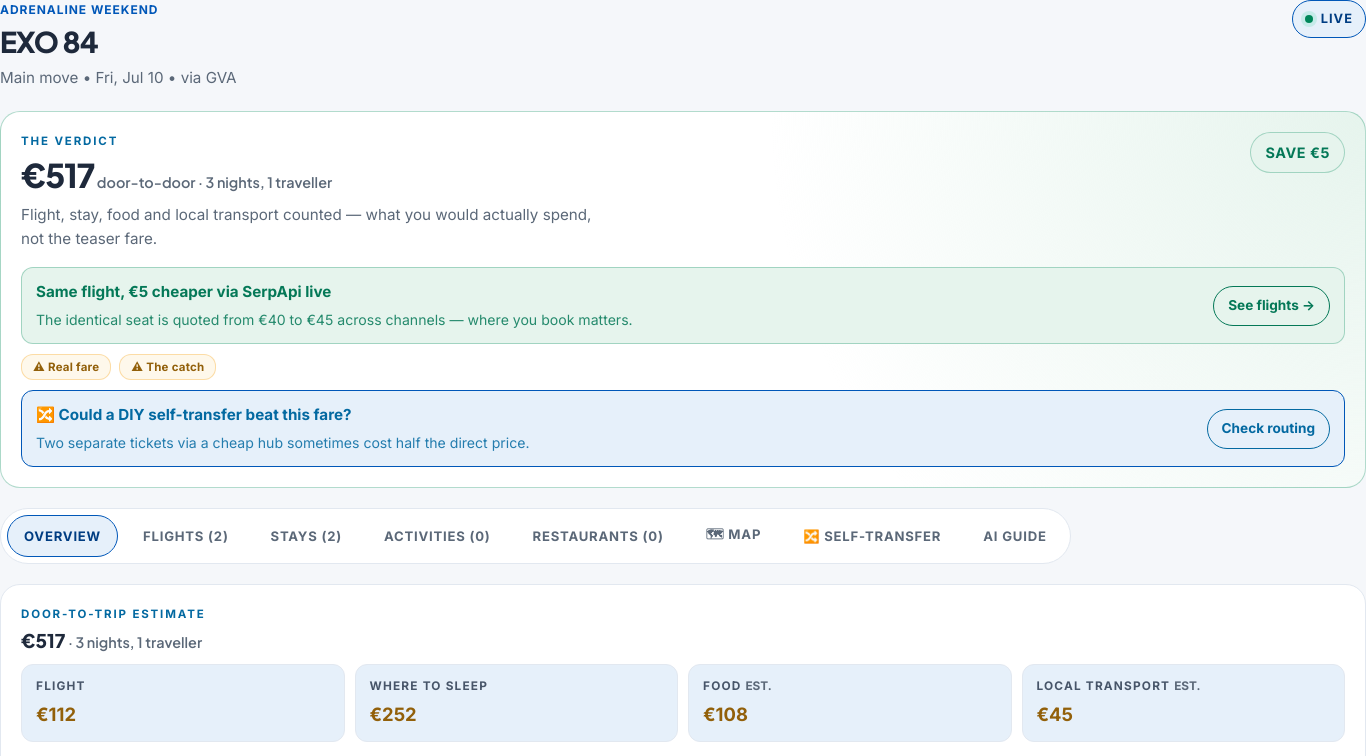
Test: TripExploreDashboard — stays tab › lists every gem with one-decimal distances and per-hotel currency
Click the tab "Stays (2)" at {"x": 306, "y": 536}, box [254,515,359,557]
(page scrolled)
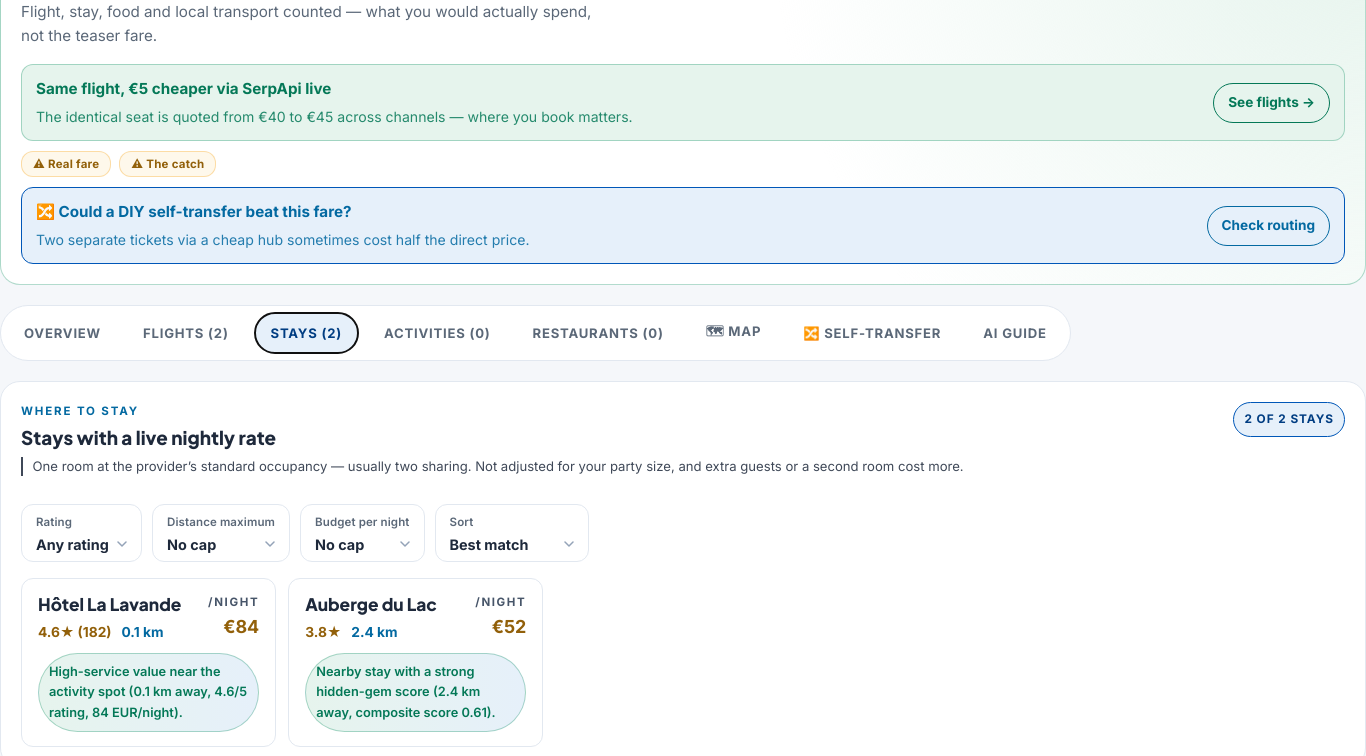
Result: the heading "Auberge du Lac" is shown at [305,592,437,615]
Result: the text "2.4 km" is shown at [351,621,398,643]
Result: the text "€52" is shown at [492,613,526,642]
